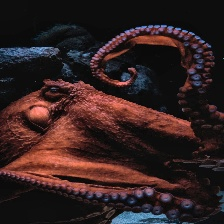octopus: (0, 64, 219, 209)
